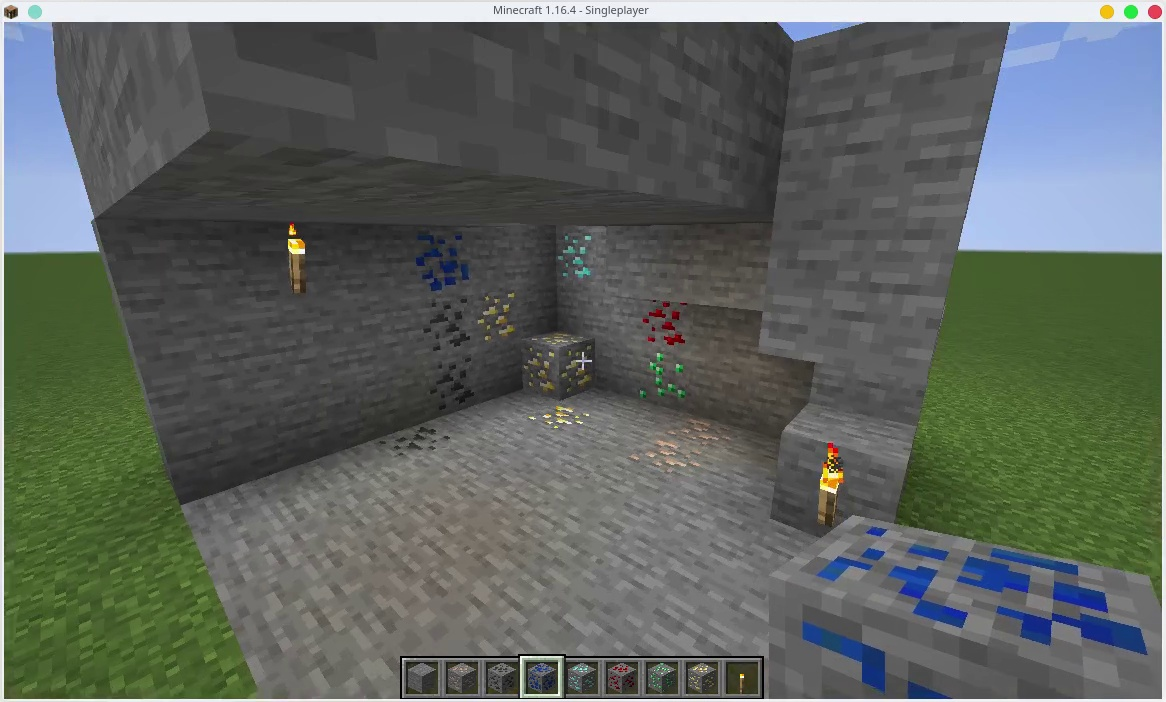gold: (521, 333, 598, 395), (471, 288, 518, 339), (527, 400, 589, 436), (687, 663, 717, 689)
